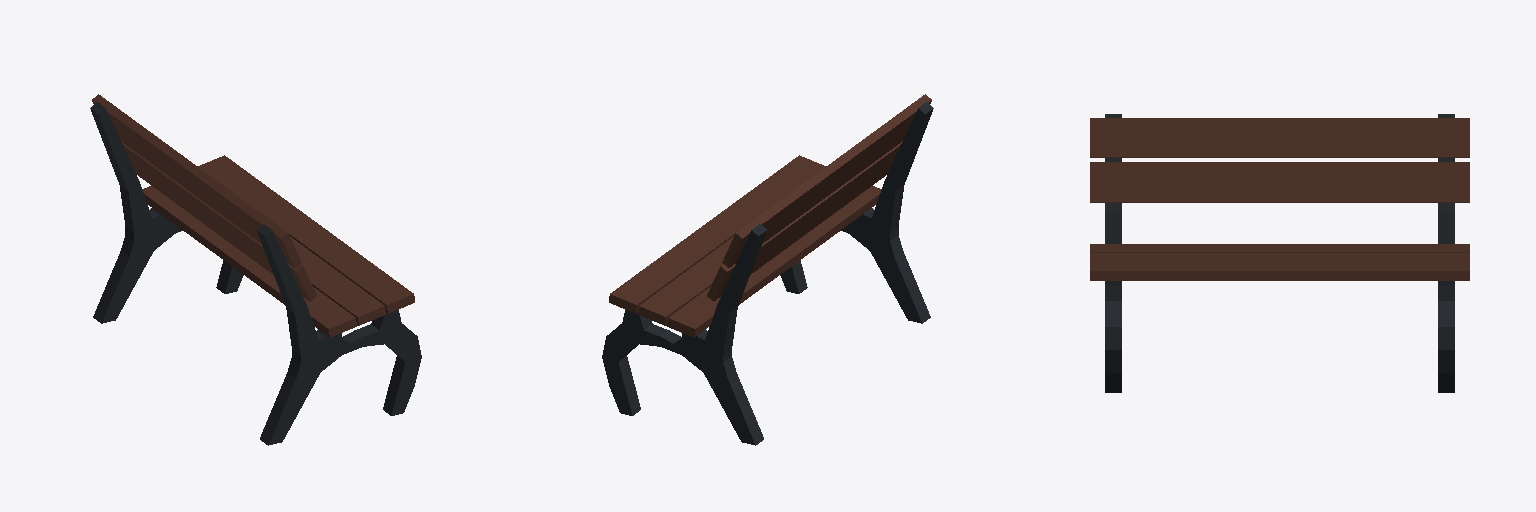
File: m_bench.obj
3 renders of one model, left to right at view 1: azimuth 30°, elevation 25°; view 2: azimuth 150°, elevation 25°; view 3: azimuth 270°, elevation 25°, orthographic.
Parts seen in each view (by area): view 1: Cube.001; view 2: Cube.001; view 3: Cube.001.
Part boxes in pixels (x1,y1,x2,y2): Cube.001: (90, 94, 421, 445); Cube.001: (602, 94, 933, 445); Cube.001: (1090, 114, 1469, 392).
Bounding box in the file's own units: 1.27 × 1.67 × 2.67.